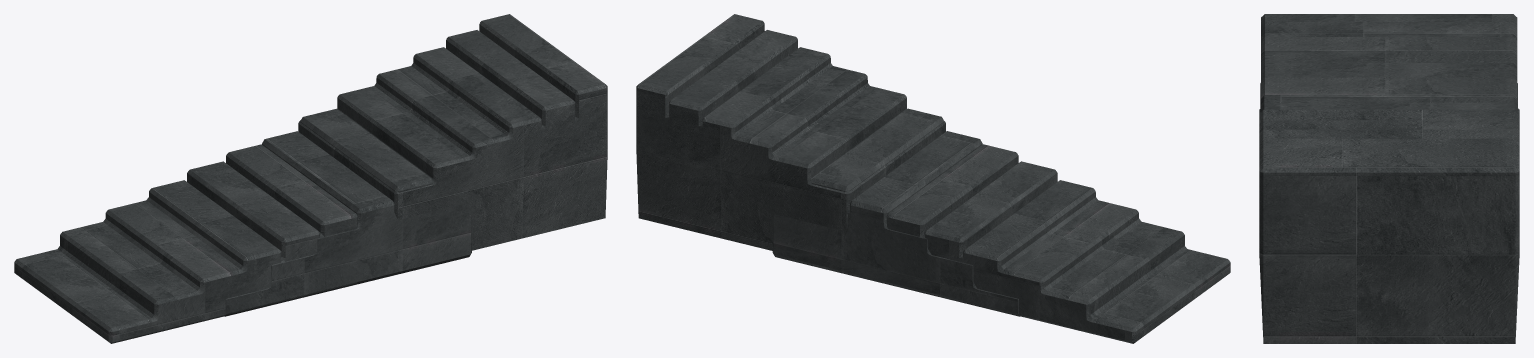
The model's file is stairs.fbx.
3 renders of one model, left to right at view 1: azimuth 30°, elevation 25°; view 2: azimuth 150°, elevation 25°; view 3: azimuth 270°, elevation 25°, orthographic. The views are drawn at different scales.
Parts seen in each view (by area): view 1: pCube178, pCube177, pCube179; view 2: pCube178, pCube177, pCube179; view 3: pCube178, pCube177, pCube179.
Part boxes in pixels (x1,y1,x2,y2): pCube178: [298, 14, 607, 250]; pCube177: [14, 144, 357, 343]; pCube179: [224, 108, 471, 316]; pCube178: [636, 14, 945, 250]; pCube177: [886, 144, 1230, 343]; pCube179: [772, 108, 1020, 316]; pCube178: [1259, 108, 1519, 343]; pCube177: [1261, 14, 1517, 98]; pCube179: [1260, 83, 1517, 111].
Size of the model in its own units: 855 by 230 by 294.
